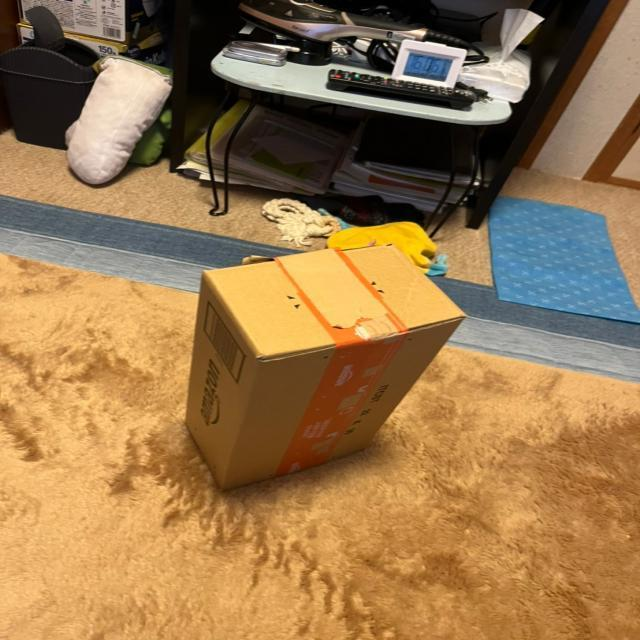box: (182, 238, 478, 497)
